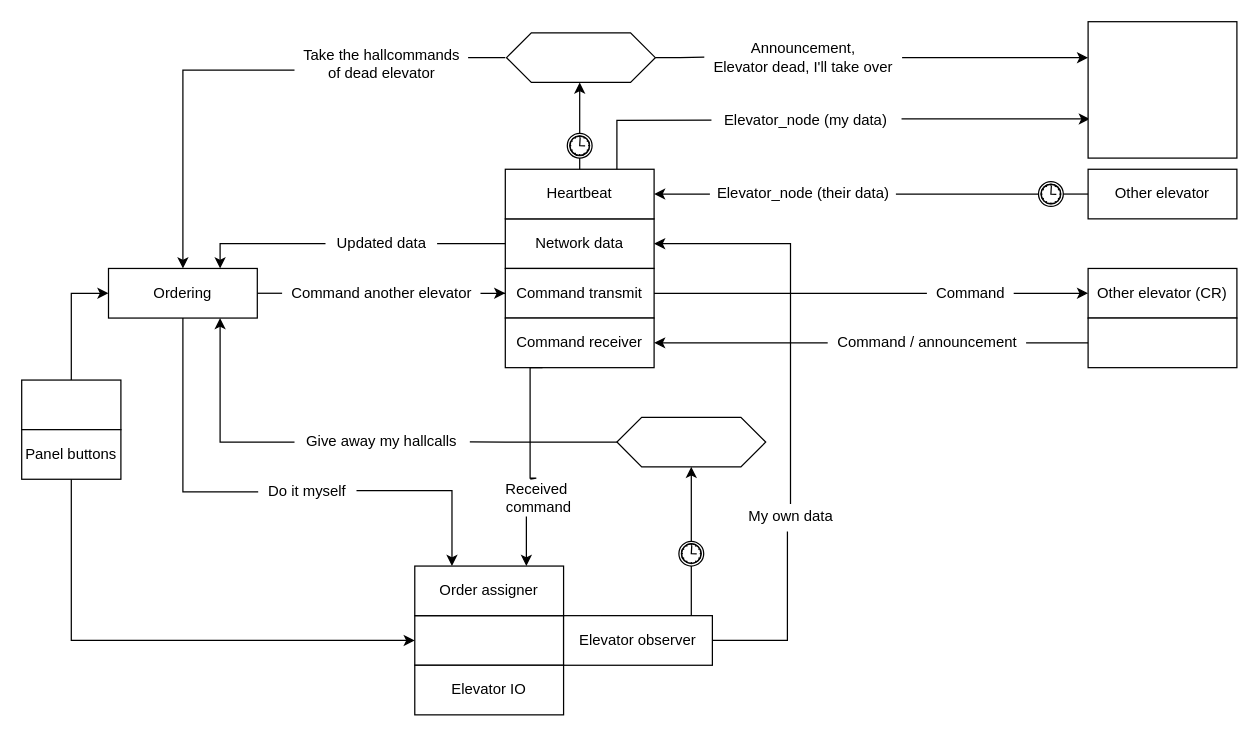
Some shapes in this 1259 by 737 pixel diagram are drawn without their labels. Here are the shapes that lost their labels. From the top down, the centre of each, then its label:
At point 580,57: "Timer has run out".
At point 1162,89: "Broadcast to all elevators".
At point 1162,342: "Other elevator (CT)".
At point 70,404: "Hall buttons".
At point 691,441: "I'm stuck".
At point 489,639: "State machine".
